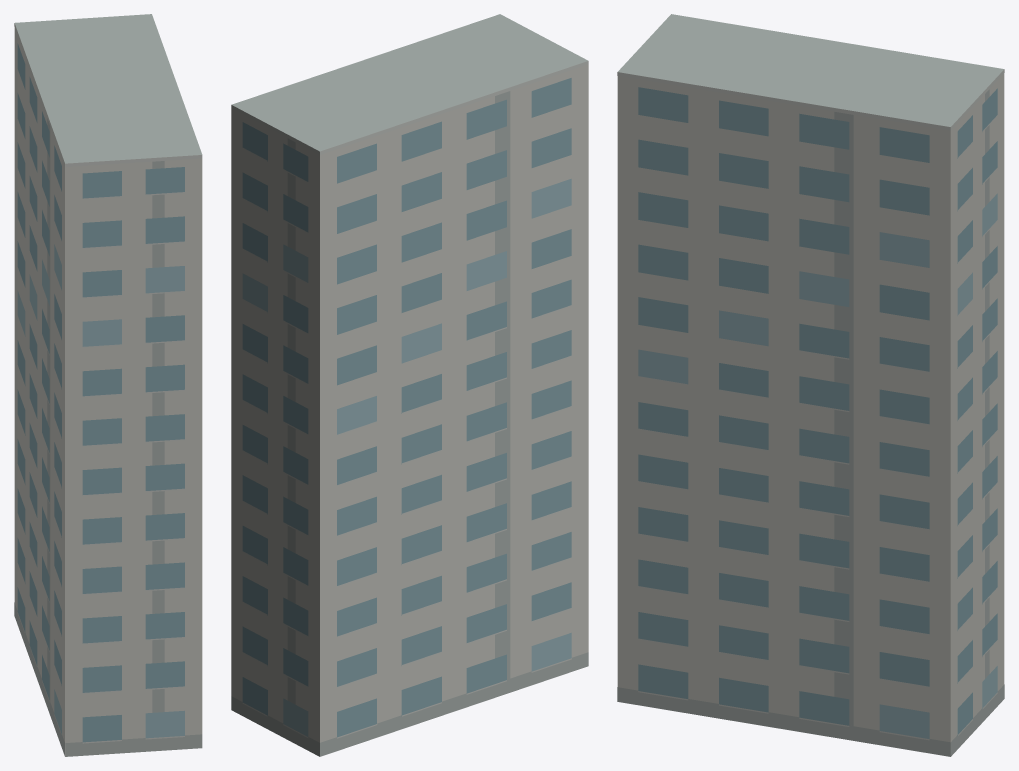
The model's file is residential-51060759-b8a5-42d8-99f5-4dae9ab79032.glb.
The picture shows the model from 3 angles, left to right: view 1: azimuth 30°, elevation 25°; view 2: azimuth 150°, elevation 25°; view 3: azimuth 270°, elevation 25°; orthographic projection. The views are drawn at different scales.
Visible parts, largest first — view 1: residential-51060759-b8a5-42d8-99f5-4dae9ab79032.tmp; view 2: residential-51060759-b8a5-42d8-99f5-4dae9ab79032.tmp; view 3: residential-51060759-b8a5-42d8-99f5-4dae9ab79032.tmp.
Boxes of the visible parts, x1=… form: residential-51060759-b8a5-42d8-99f5-4dae9ab79032.tmp: x1=14, y1=14, x2=202, y2=756; residential-51060759-b8a5-42d8-99f5-4dae9ab79032.tmp: x1=231, y1=14, x2=588, y2=756; residential-51060759-b8a5-42d8-99f5-4dae9ab79032.tmp: x1=617, y1=14, x2=1004, y2=756.
Size of the model in its own units: 15.42 by 40 by 22.29.
